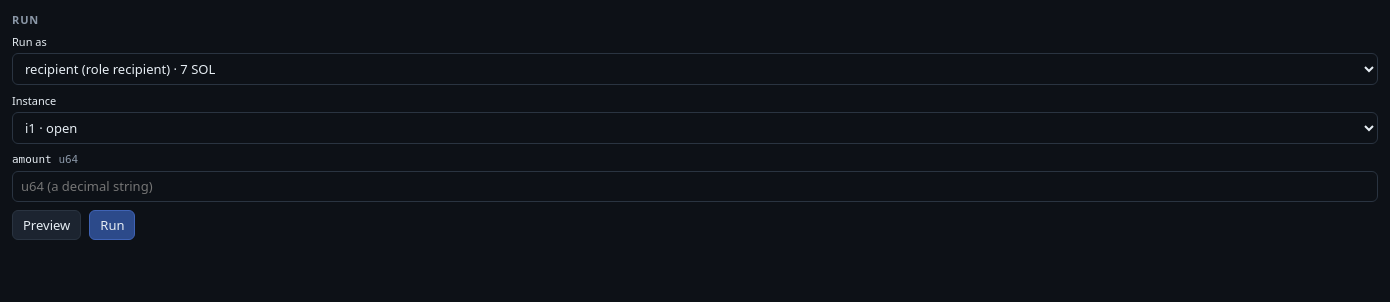
Scenario: RunStepForm › keeps an explicit browser wallet choice when the instance changes
The image size is (1390, 302).
Select "Fake 1234…abcd (browser wallet)" in the dropdown with test id "run-as" at (695, 69), box x1=12 y1=53 x2=1378 y2=85
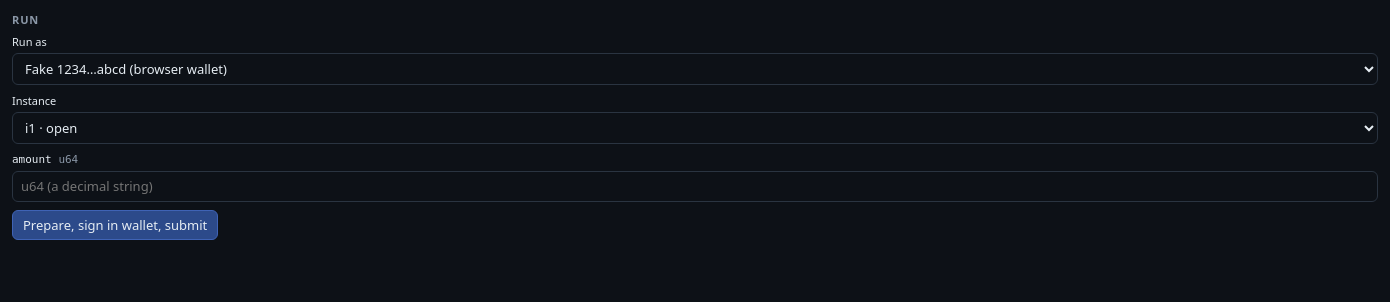
Select "i2 · open" in the dropdown with test id "run-instance" at (695, 128), box x1=12 y1=112 x2=1378 y2=144
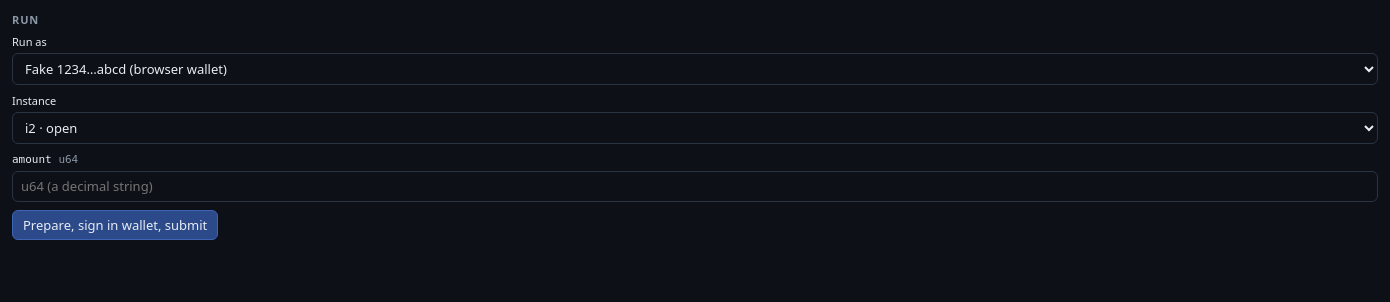
Type "5" into the field with placeholder "u64 (a decimal string)" at (695, 186), box x1=12 y1=171 x2=1378 y2=202
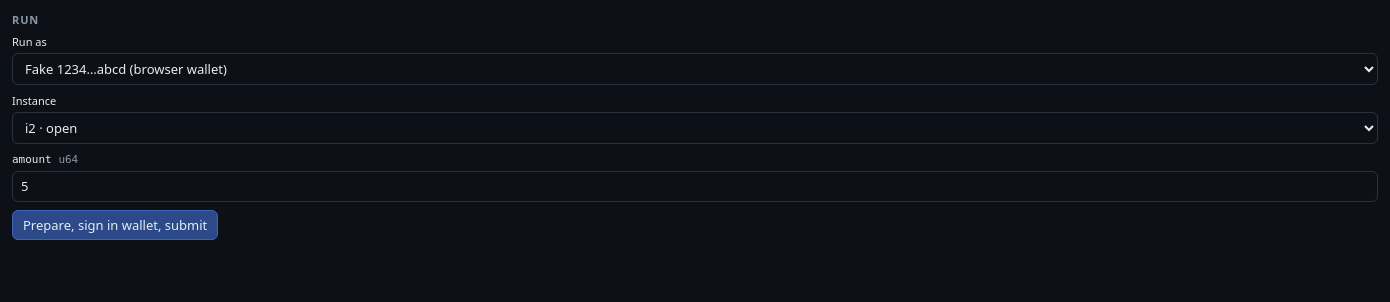
Click the button with test id "run-button" at (115, 225), box x1=12 y1=210 x2=218 y2=240
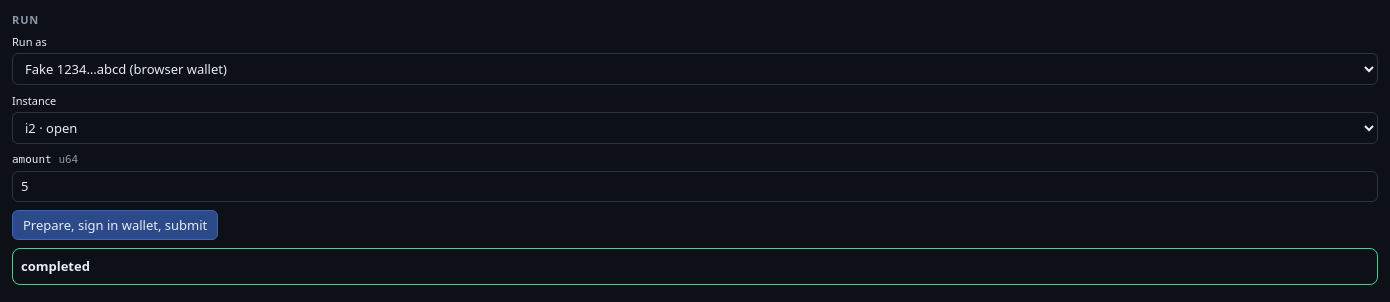
Expected: the element with test id "run-result" reads "completed", x1=21 y1=257 x2=90 y2=275
